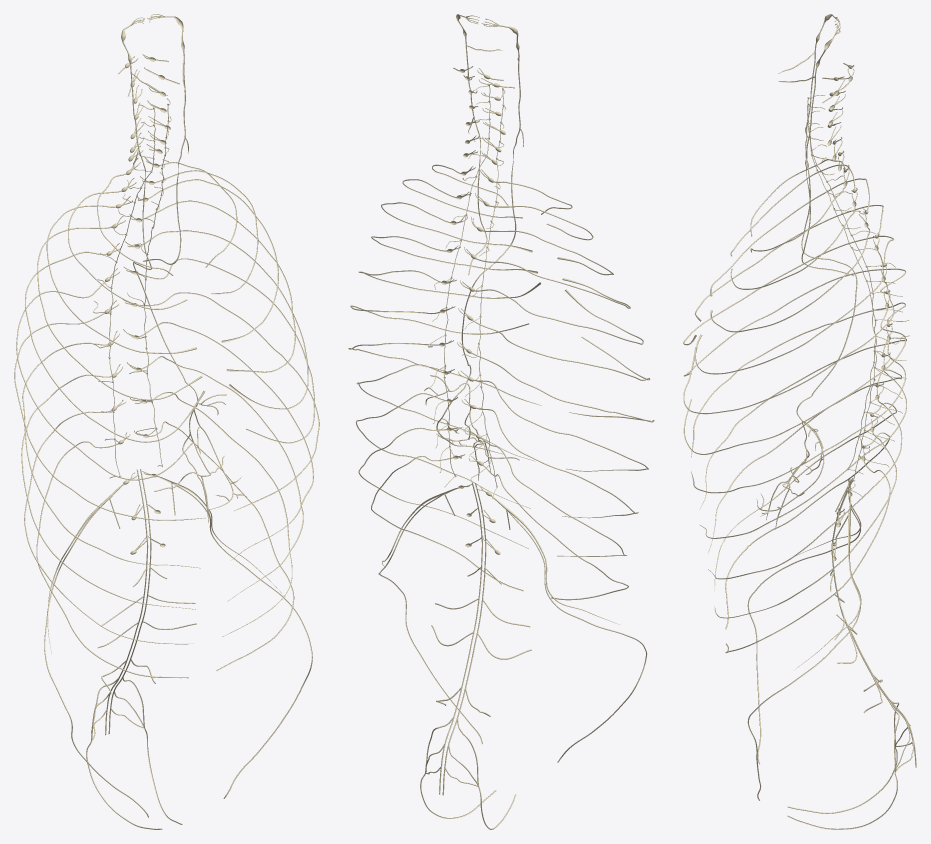
File: z-nervous-trunk.glb
3 renders of one model, left to right at view 1: azimuth 30°, elevation 25°; view 2: azimuth 150°, elevation 25°; view 3: azimuth 270°, elevation 25°, orthographic.
Parts seen in each view (by area): view 1: nervous-z-intercostal-nerves-right, nervous-z-intercostal-nerves-left, nervous-vagus-nerve-right, nervous-z-cauda-equina, nervous-vagus-nerve-left, nervous-ilioinguinal-nerve-left, nervous-ilioinguinal-nerve-right; view 2: nervous-z-intercostal-nerves-left, nervous-z-intercostal-nerves-right, nervous-z-cauda-equina, nervous-vagus-nerve-right, nervous-vagus-nerve-left, nervous-ilioinguinal-nerve-right; view 3: nervous-z-intercostal-nerves-left, nervous-z-intercostal-nerves-right, nervous-vagus-nerve-right, nervous-z-cauda-equina, nervous-vagus-nerve-left, nervous-ilioinguinal-nerve-right, nervous-sympathetic-trunk-left, nervous-ilioinguinal-nerve-left, nervous-z-sympathetic-nerves-left, nervous-pudendal-nerve-left, nervous-z-sympathetic-nerves-right, nervous-z-posterior-root-of-spinal-nerve-left (+1 smaller).
Part boxes in pixels (x1,y1,x2,y2): nervous-z-intercostal-nerves-right: (14, 173, 206, 678); nervous-z-intercostal-nerves-left: (134, 162, 319, 670); nervous-vagus-nerve-right: (121, 17, 246, 523); nervous-z-cauda-equina: (95, 469, 196, 735); nervous-vagus-nerve-left: (143, 14, 188, 264); nervous-ilioinguinal-nerve-left: (171, 482, 312, 798); nervous-ilioinguinal-nerve-right: (44, 503, 148, 817); nervous-z-intercostal-nerves-left: (348, 164, 541, 591); nervous-z-intercostal-nerves-right: (471, 181, 654, 600); nervous-z-cauda-equina: (429, 482, 531, 795); nervous-vagus-nerve-right: (424, 18, 523, 480); nervous-vagus-nerve-left: (456, 14, 502, 275); nervous-ilioinguinal-nerve-right: (508, 511, 647, 762); nervous-z-intercostal-nerves-left: (683, 184, 906, 653); nervous-z-intercostal-nerves-right: (683, 159, 906, 629); nervous-vagus-nerve-right: (756, 14, 857, 529); nervous-z-cauda-equina: (830, 478, 916, 767); nervous-vagus-nerve-left: (778, 24, 853, 275); nervous-ilioinguinal-nerve-right: (747, 486, 860, 764); nervous-sympathetic-trunk-left: (807, 104, 876, 496); nervous-ilioinguinal-nerve-left: (747, 513, 861, 800); nervous-z-sympathetic-nerves-left: (808, 121, 909, 467); nervous-pudendal-nerve-left: (787, 715, 912, 829); nervous-z-sympathetic-nerves-right: (809, 110, 909, 451); nervous-z-posterior-root-of-spinal-nerve-left: (829, 69, 892, 558).
Size of the model in its own units: 0.2631 by 0.7431 by 0.1968.
